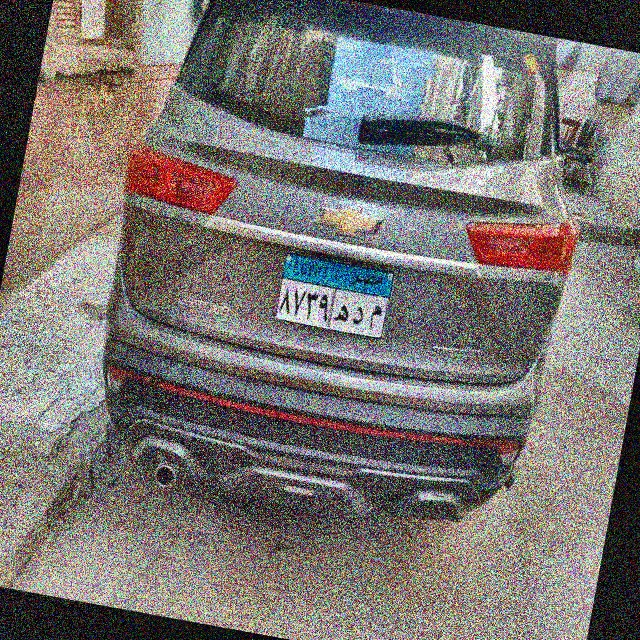License Plate: (271, 248, 398, 343)
